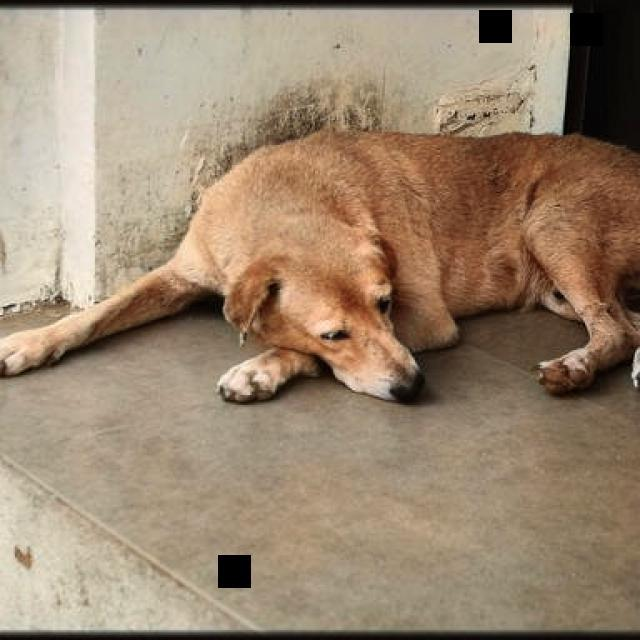adult_dog: (1, 126, 640, 407)
